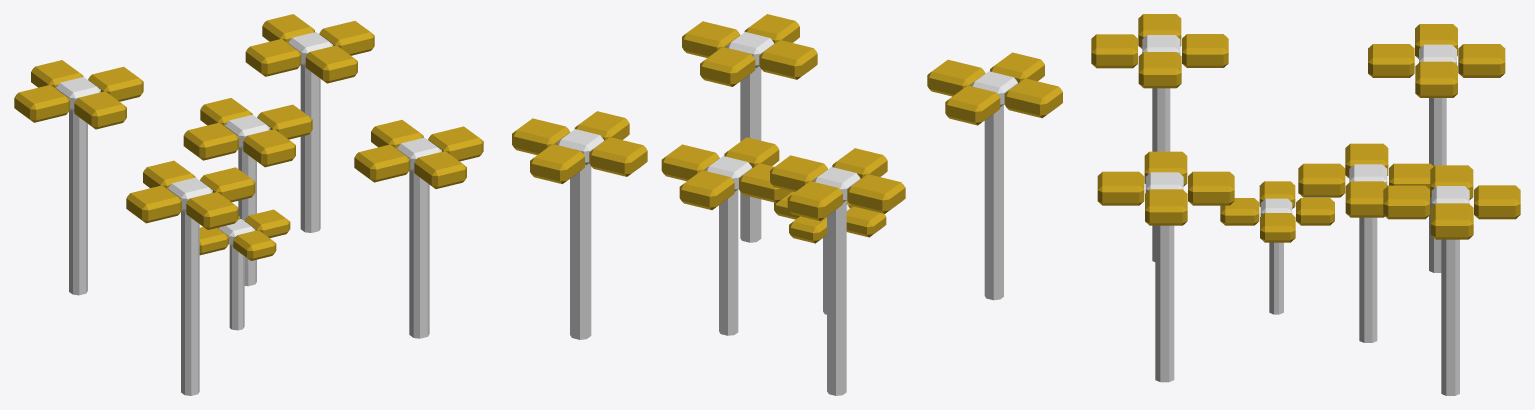
Rendered from flowers_02.glb.
3 renders of one model, left to right at view 1: azimuth 30°, elevation 25°; view 2: azimuth 150°, elevation 25°; view 3: azimuth 270°, elevation 25°, orthographic. The views are drawn at different scales.
Parts seen in each view (by area): view 1: Flowers_1; view 2: Flowers_1; view 3: Flowers_1.
Part boxes in pixels (x1=…): Flowers_1: x1=14, y1=14, x2=483, y2=395; Flowers_1: x1=512, y1=14, x2=1062, y2=395; Flowers_1: x1=1091, y1=14, x2=1520, y2=395.
Size of the model in its own units: 1.93 by 1.03 by 1.83.
2 materials, 1 textured.
